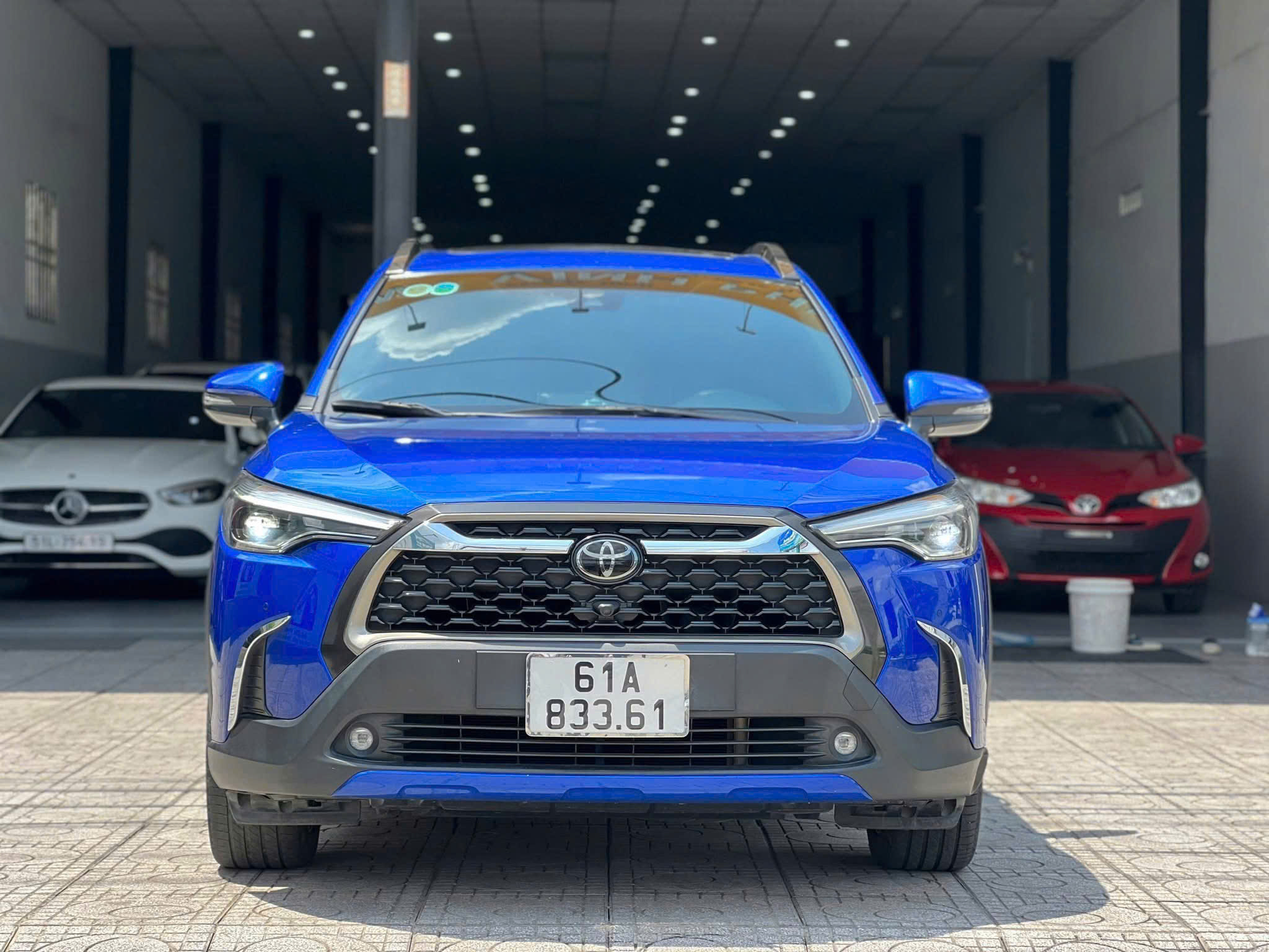Bien-so: (520, 644, 704, 748)
